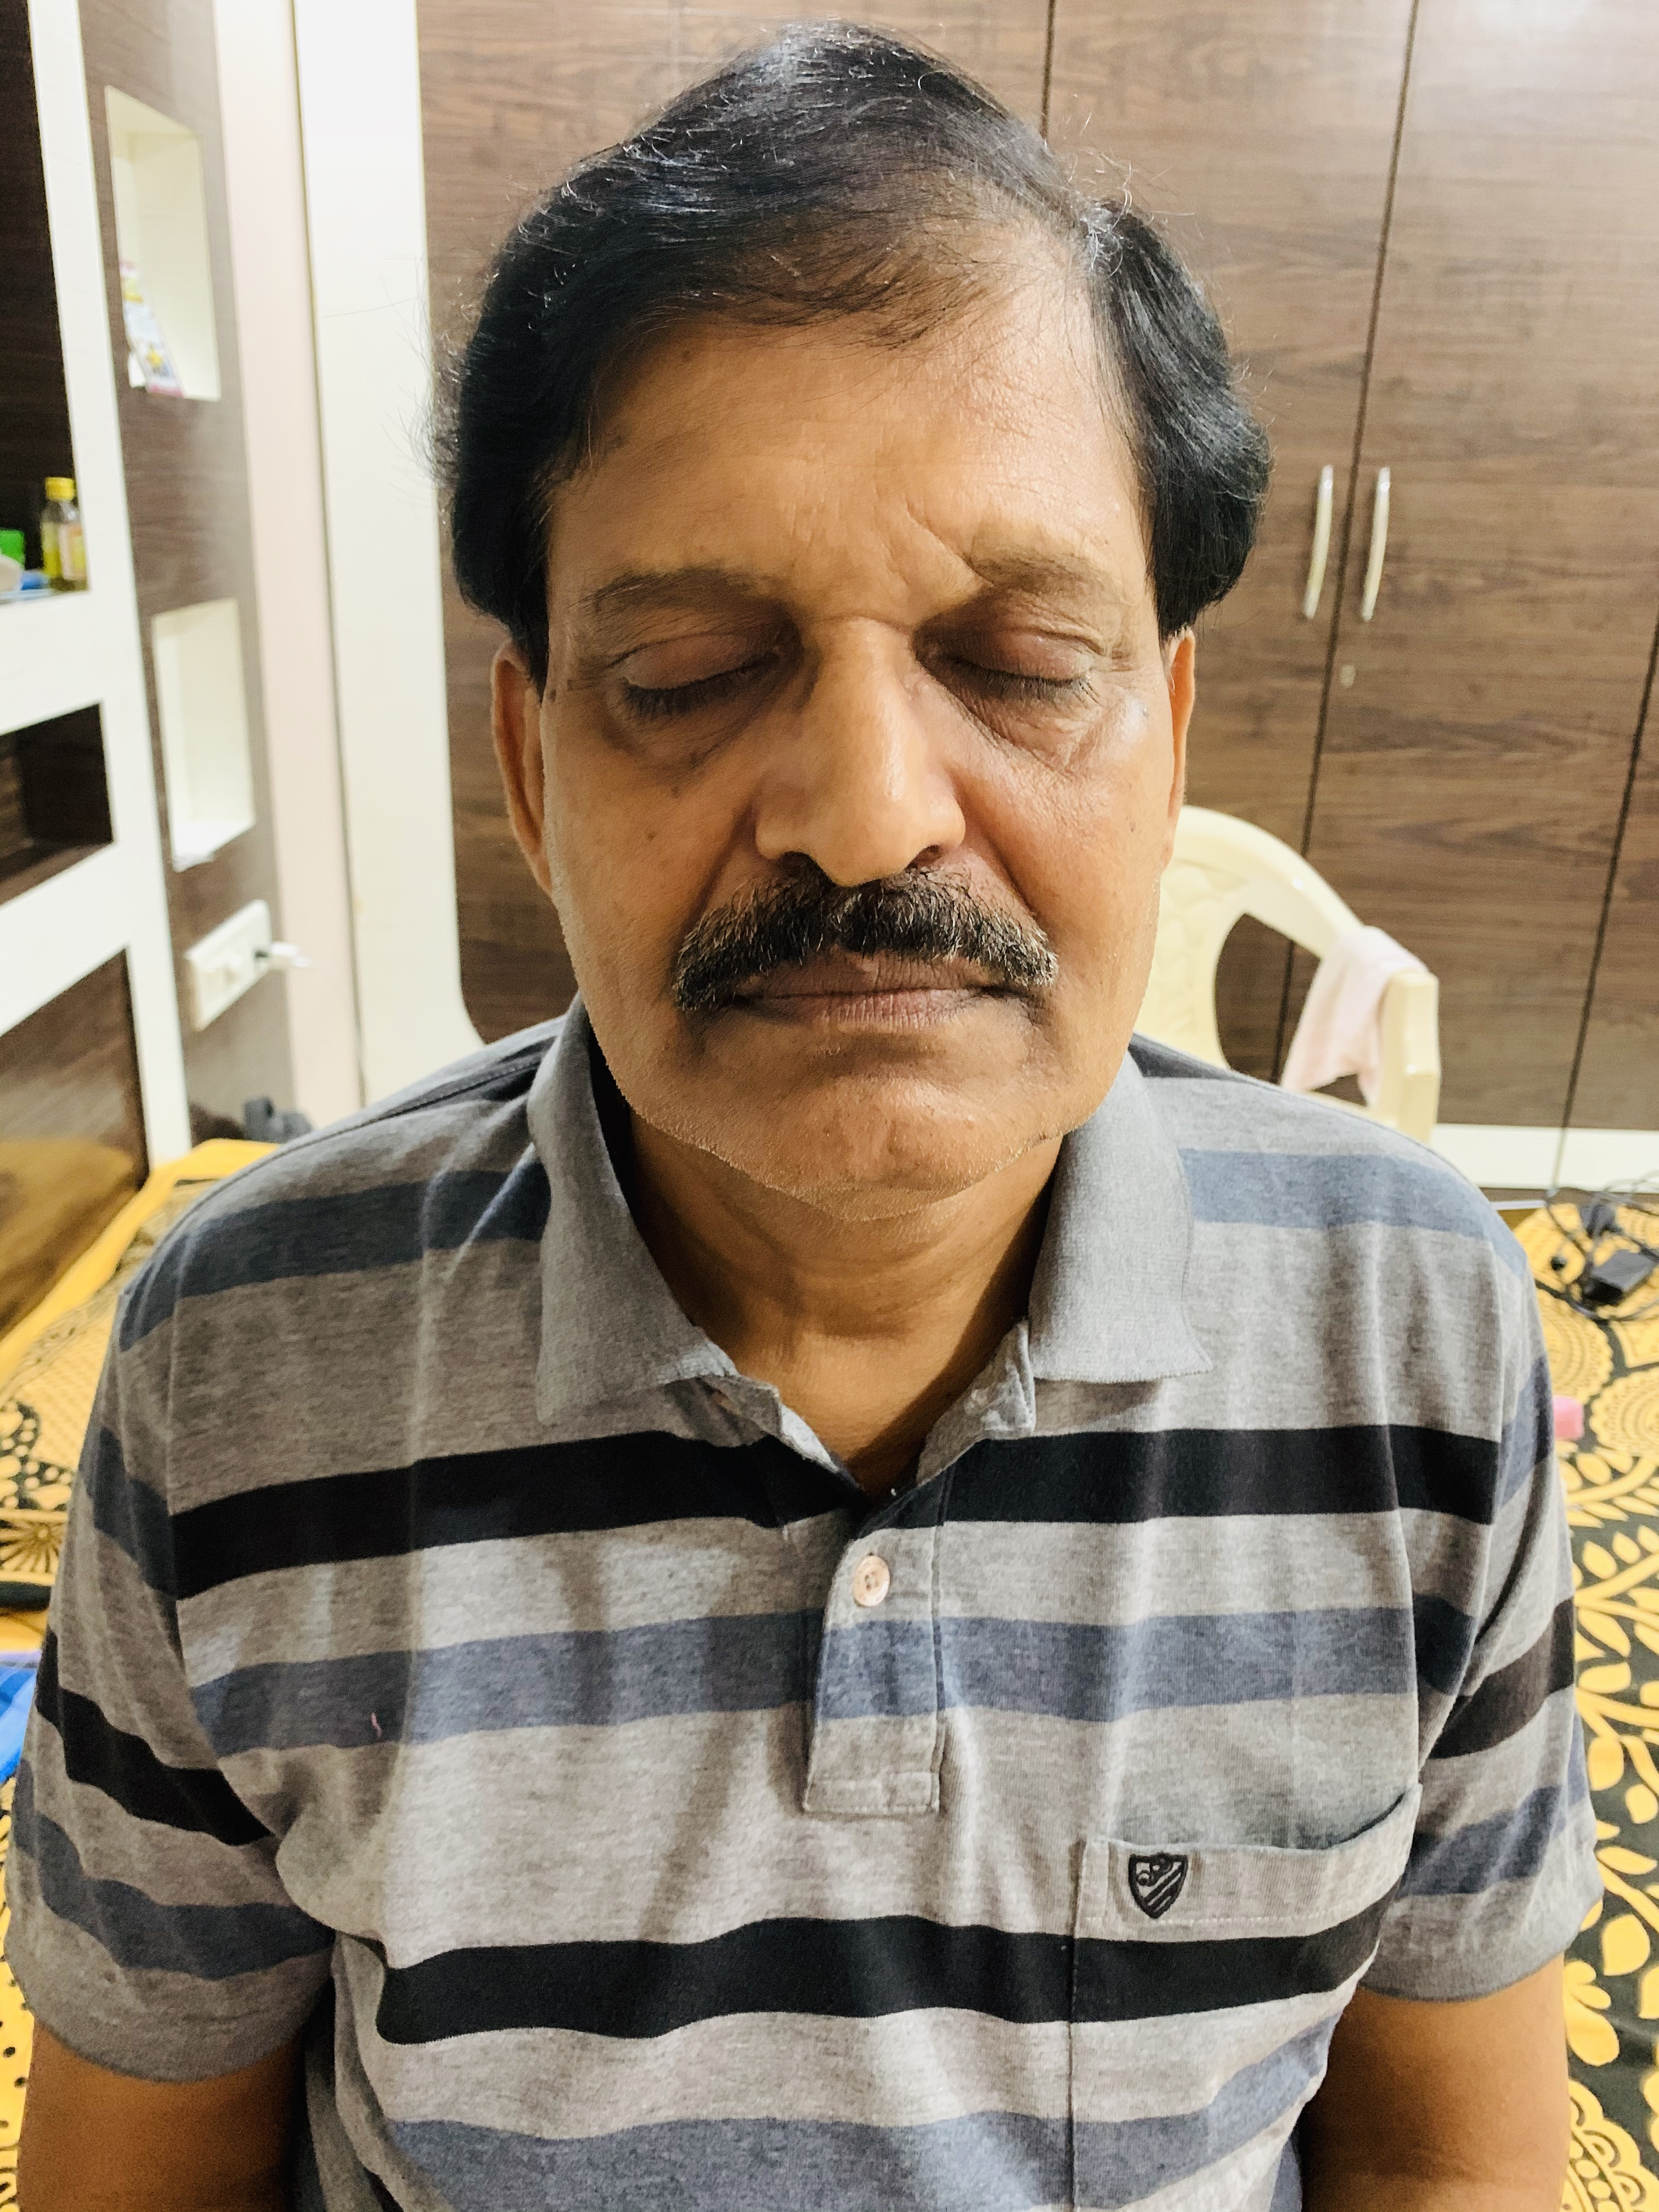Sleeping: (561, 585, 1202, 728)
